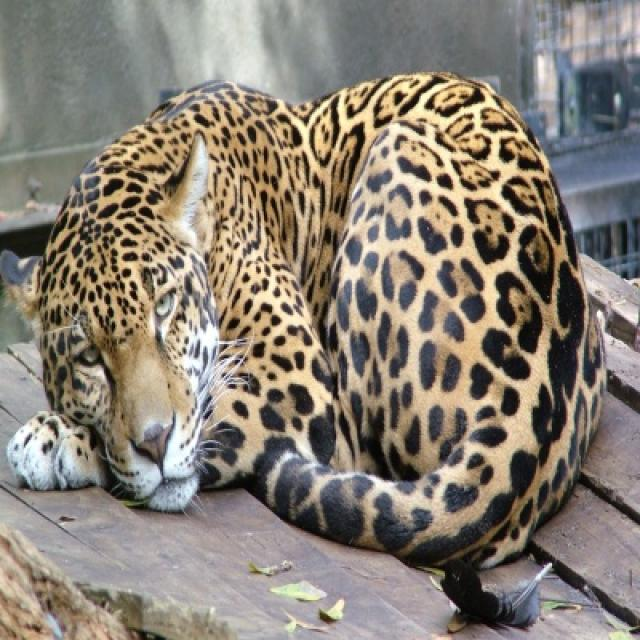Jaguar: (6, 72, 610, 621)
